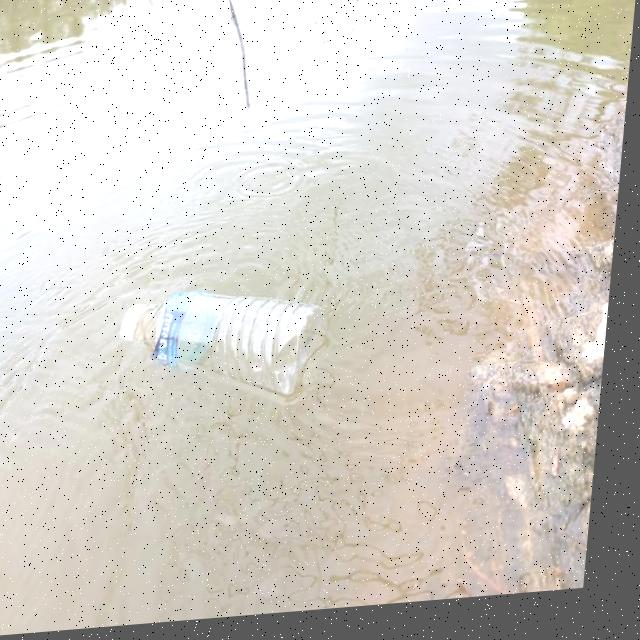waterbottle: (111, 275, 348, 425)
